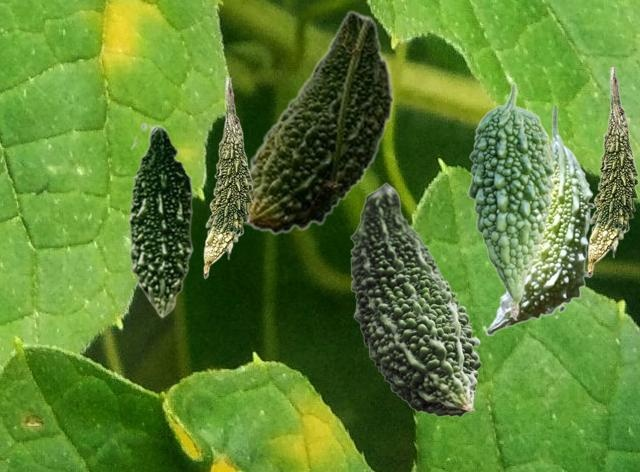ampalaya: (244, 10, 394, 234), (350, 182, 481, 416), (485, 106, 594, 335), (467, 82, 554, 320), (128, 122, 197, 318), (587, 67, 638, 277), (203, 78, 252, 278)
